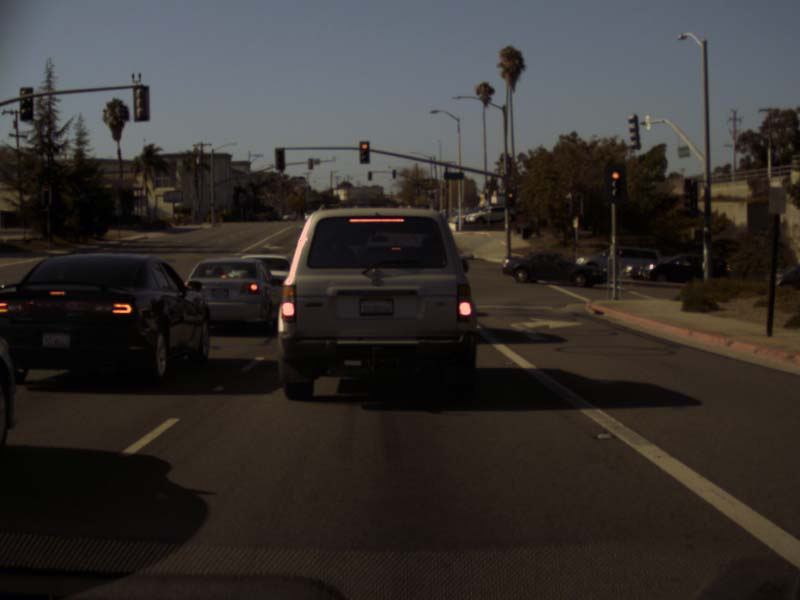Red: (605, 165, 626, 202), (359, 141, 369, 163), (41, 184, 50, 205), (505, 188, 514, 208)
